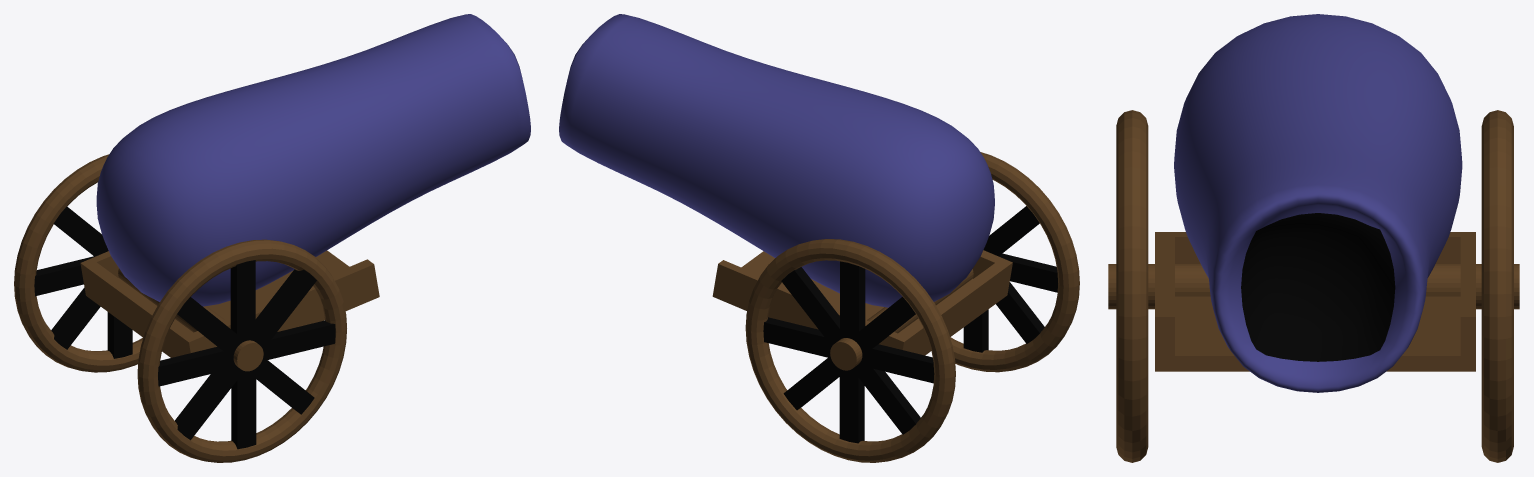
File: Cannon.fbx
3 renders of one model, left to right at view 1: azimuth 30°, elevation 25°; view 2: azimuth 150°, elevation 25°; view 3: azimuth 270°, elevation 25°, orthographic. The views are drawn at different scales.
Visible parts, largest first — view 1: Top, tekerlek, tekerlek.001, Cube, Cylinder; view 2: Top, tekerlek.001, tekerlek, Cube, Cylinder; view 3: Top, Cube, tekerlek.001, tekerlek, Cylinder.
Boxes of the visible parts, left/top/right/bottom form: Top: left=96, top=14, right=530, bottom=306; tekerlek: left=137, top=239, right=346, bottom=462; tekerlek.001: left=14, top=154, right=143, bottom=372; Cube: left=80, top=250, right=379, bottom=357; Cylinder: left=118, top=268, right=263, bottom=371; Top: left=559, top=14, right=994, bottom=307; tekerlek.001: left=745, top=239, right=955, bottom=462; tekerlek: left=950, top=152, right=1079, bottom=372; Cube: left=712, top=250, right=1012, bottom=355; Cylinder: left=830, top=269, right=973, bottom=370; Top: left=1174, top=14, right=1462, bottom=392; Cube: left=1155, top=232, right=1475, bottom=371; tekerlek.001: left=1481, top=110, right=1513, bottom=462; tekerlek: left=1116, top=110, right=1148, bottom=462; Cylinder: left=1108, top=264, right=1519, bottom=309.
Bounding box in the file's own units: 457 × 324 × 256.
